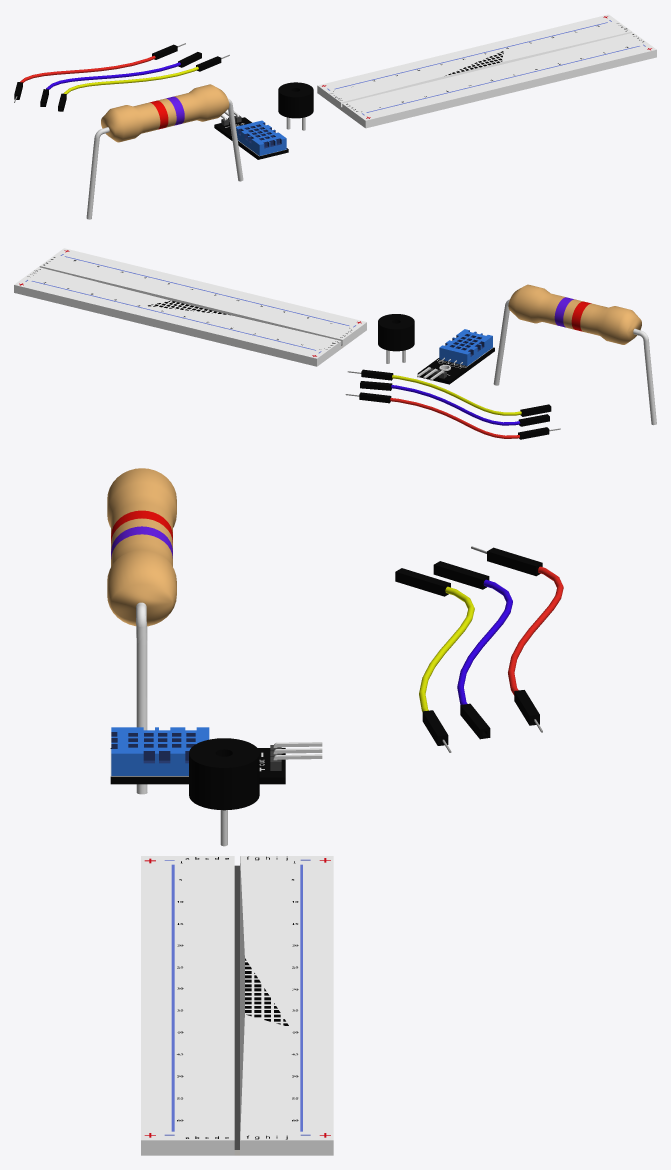
Rendered from Komponen.fbx.
3 views of the same model, one above another, from view 1: azimuth 30°, elevation 25°; view 2: azimuth 150°, elevation 25°; view 3: azimuth 270°, elevation 25° (orthographic). The views are drawn at different scales.
Visible parts, largest first — view 1: Cube, Cylinder.020, Cube.007, Cylinder, Cylinder.019, BezierCurve.003, BezierCurve.002, BezierCurve, Cube.019, Cylinder.018; view 2: Cube, Cylinder.020, Cube.007, Cylinder, Cube.019, Cylinder.019, BezierCurve.002, BezierCurve, BezierCurve.003, Cylinder.018; view 3: Cube, Cylinder.020, Cylinder, Cube.007, Cylinder.018, Cube.019, BezierCurve.002, BezierCurve, BezierCurve.003.
Part boxes in pixels (x1,y1,x2,y2): Cube: (317,14,656,128); Cylinder.020: (101,84,229,142); Cube.007: (236,120,286,155); Cylinder: (278,82,313,118); Cylinder.019: (86,127,109,219); BezierCurve.003: (20,55,155,82); BezierCurve.002: (46,62,180,89); BezierCurve: (63,66,198,94); Cube.019: (214,117,288,159); Cylinder.018: (228,98,243,181); Cube: (14,248,366,366); Cylinder.020: (508,284,641,344); Cube.007: (439,329,492,365); Cylinder: (378,314,414,351); Cube.019: (417,347,494,384); Cylinder.019: (633,328,656,425); BezierCurve.002: (391,385,520,425); BezierCurve: (392,375,521,415); BezierCurve.003: (390,398,519,438); Cylinder.018: (493,299,509,385); Cube: (141,856,333,1155); Cylinder.020: (107,468,176,626); Cylinder: (189,738,259,810); Cube.007: (111,727,209,775); Cylinder.018: (136,602,147,794); Cube.019: (110,748,285,784); BezierCurve.002: (457,579,512,704); BezierCurve: (419,586,474,711); BezierCurve.003: (508,566,563,695).
Size of the model in its own units: 3724 by 642 by 1292.
